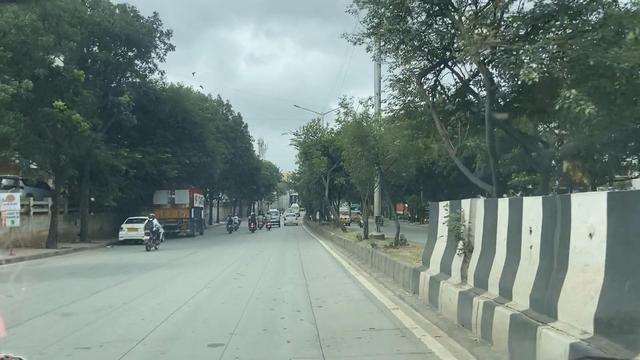RoadDamages: (186, 283, 416, 360)
